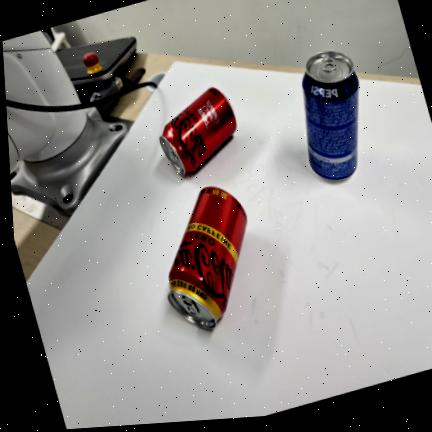can_coke_decaf: (168, 186, 247, 328)
can_coke_zero: (160, 87, 236, 175)
can_pepsi: (303, 51, 359, 180)
